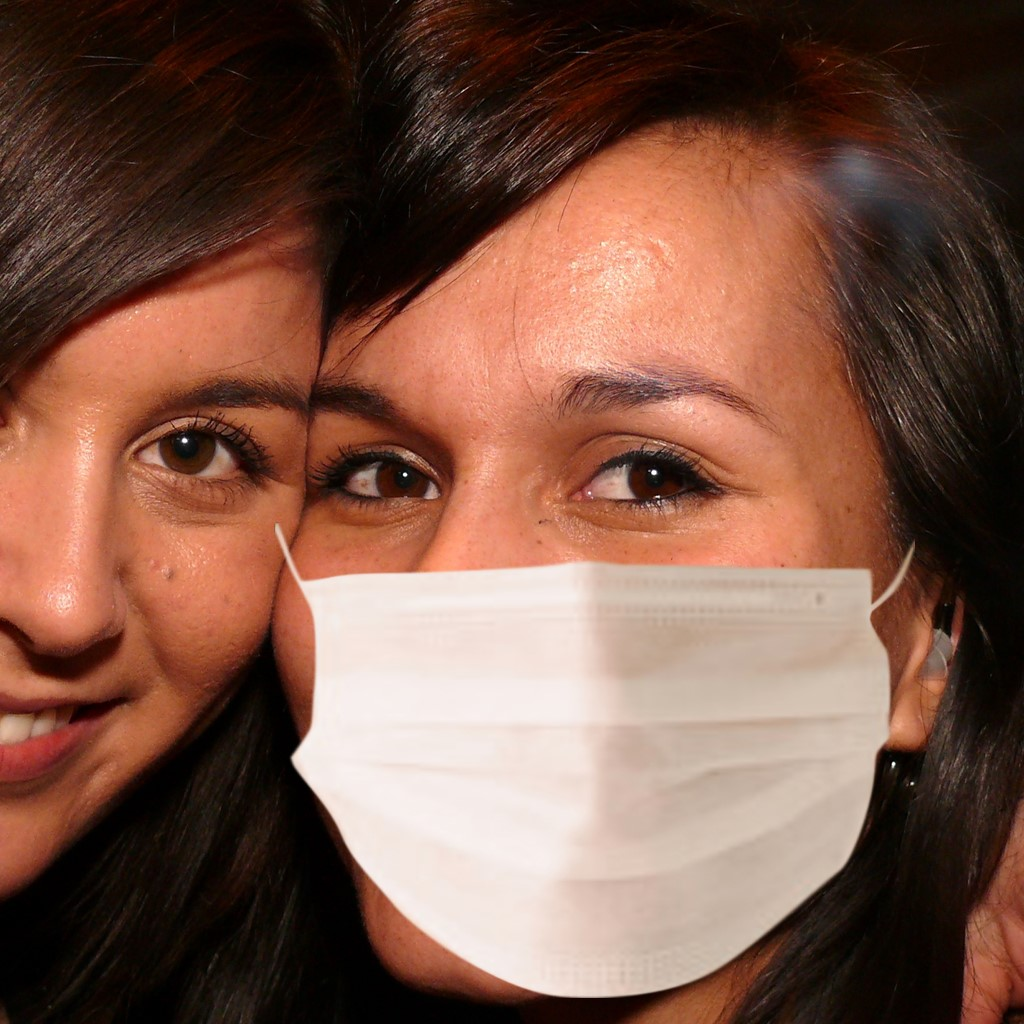con_mascara: (271, 149, 910, 980)
